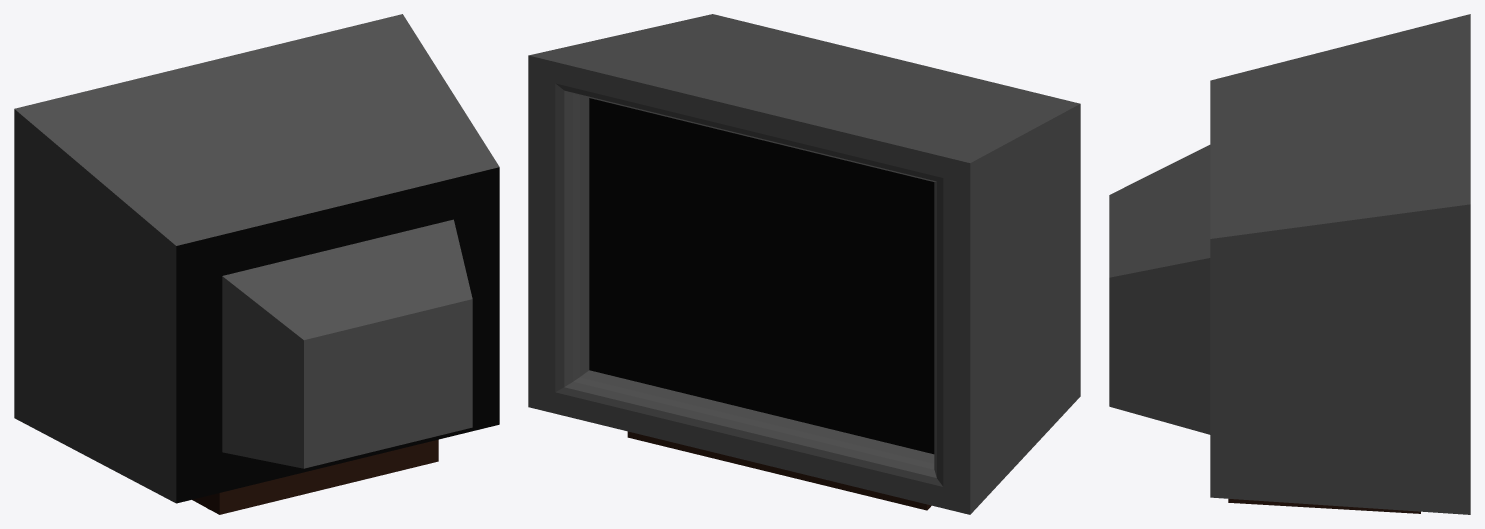
Rendered from old tube puter screen.glb.
3 renders of one model, left to right at view 1: azimuth 30°, elevation 25°; view 2: azimuth 150°, elevation 25°; view 3: azimuth 270°, elevation 25°, orthographic. The views are drawn at different scales.
Visible parts, largest first — view 1: Cube, Cube.001, Cube.002; view 2: Cube, Cube.002; view 3: Cube, Cube.001, Cube.002.
Part boxes in pixels (left/top/right/bottom): Cube: left=14, top=14, right=499, bottom=503; Cube.001: left=222, top=219, right=472, bottom=468; Cube.002: left=192, top=439, right=438, bottom=514; Cube: left=528, top=14, right=1080, bottom=514; Cube.002: left=627, top=431, right=931, bottom=510; Cube: left=1210, top=14, right=1470, bottom=514; Cube.001: left=1109, top=145, right=1210, bottom=434; Cube.002: left=1228, top=499, right=1420, bottom=513.
Bounding box in the file's own units: 2 × 1.69 × 1.6.
